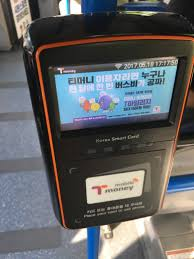terminal: (28, 22, 188, 219)
